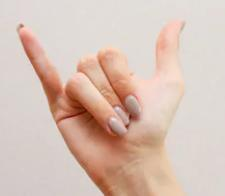clockwise: (13, 13, 191, 154)
